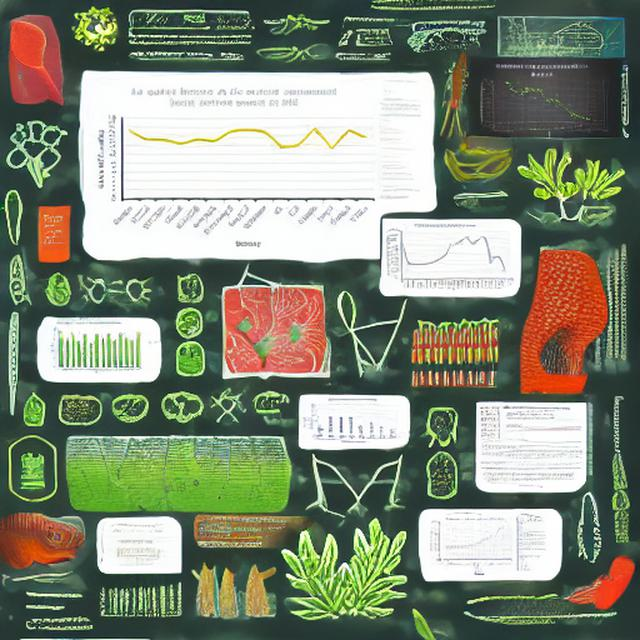Graph: (90, 80, 379, 253), (475, 60, 608, 137), (383, 221, 509, 294), (46, 320, 147, 379), (426, 515, 515, 568), (300, 398, 398, 445), (111, 539, 162, 568)
